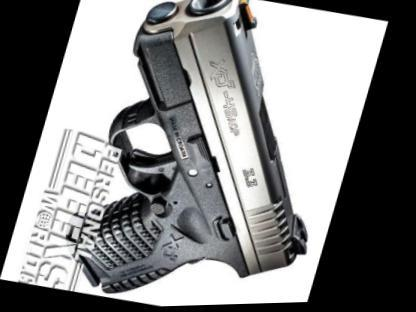pistol: (58, 0, 378, 307)
